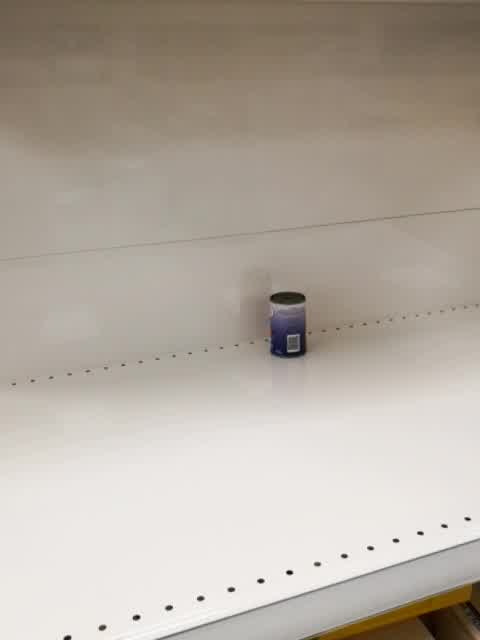sardine: (268, 291, 307, 358)
